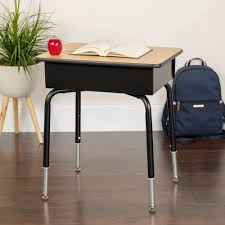desk: (35, 42, 181, 210)
